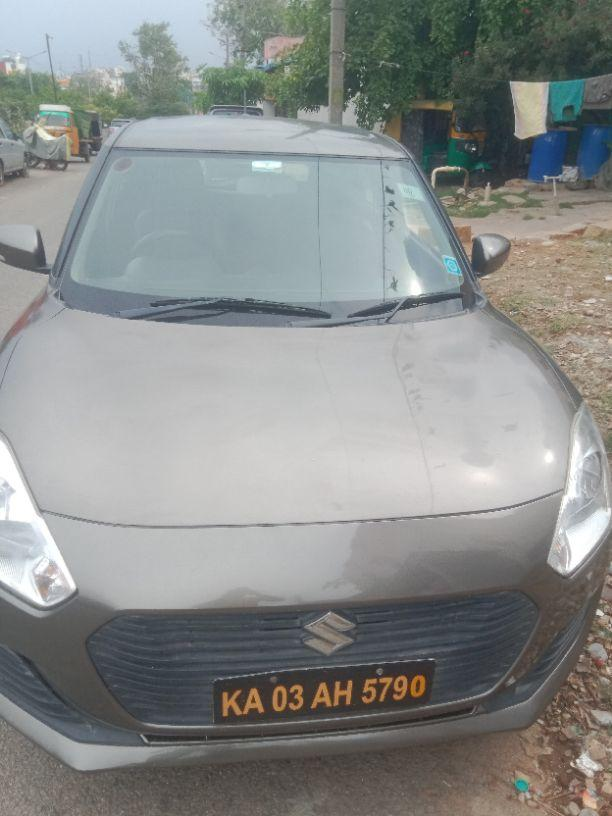license_plate: (211, 657, 436, 725)
